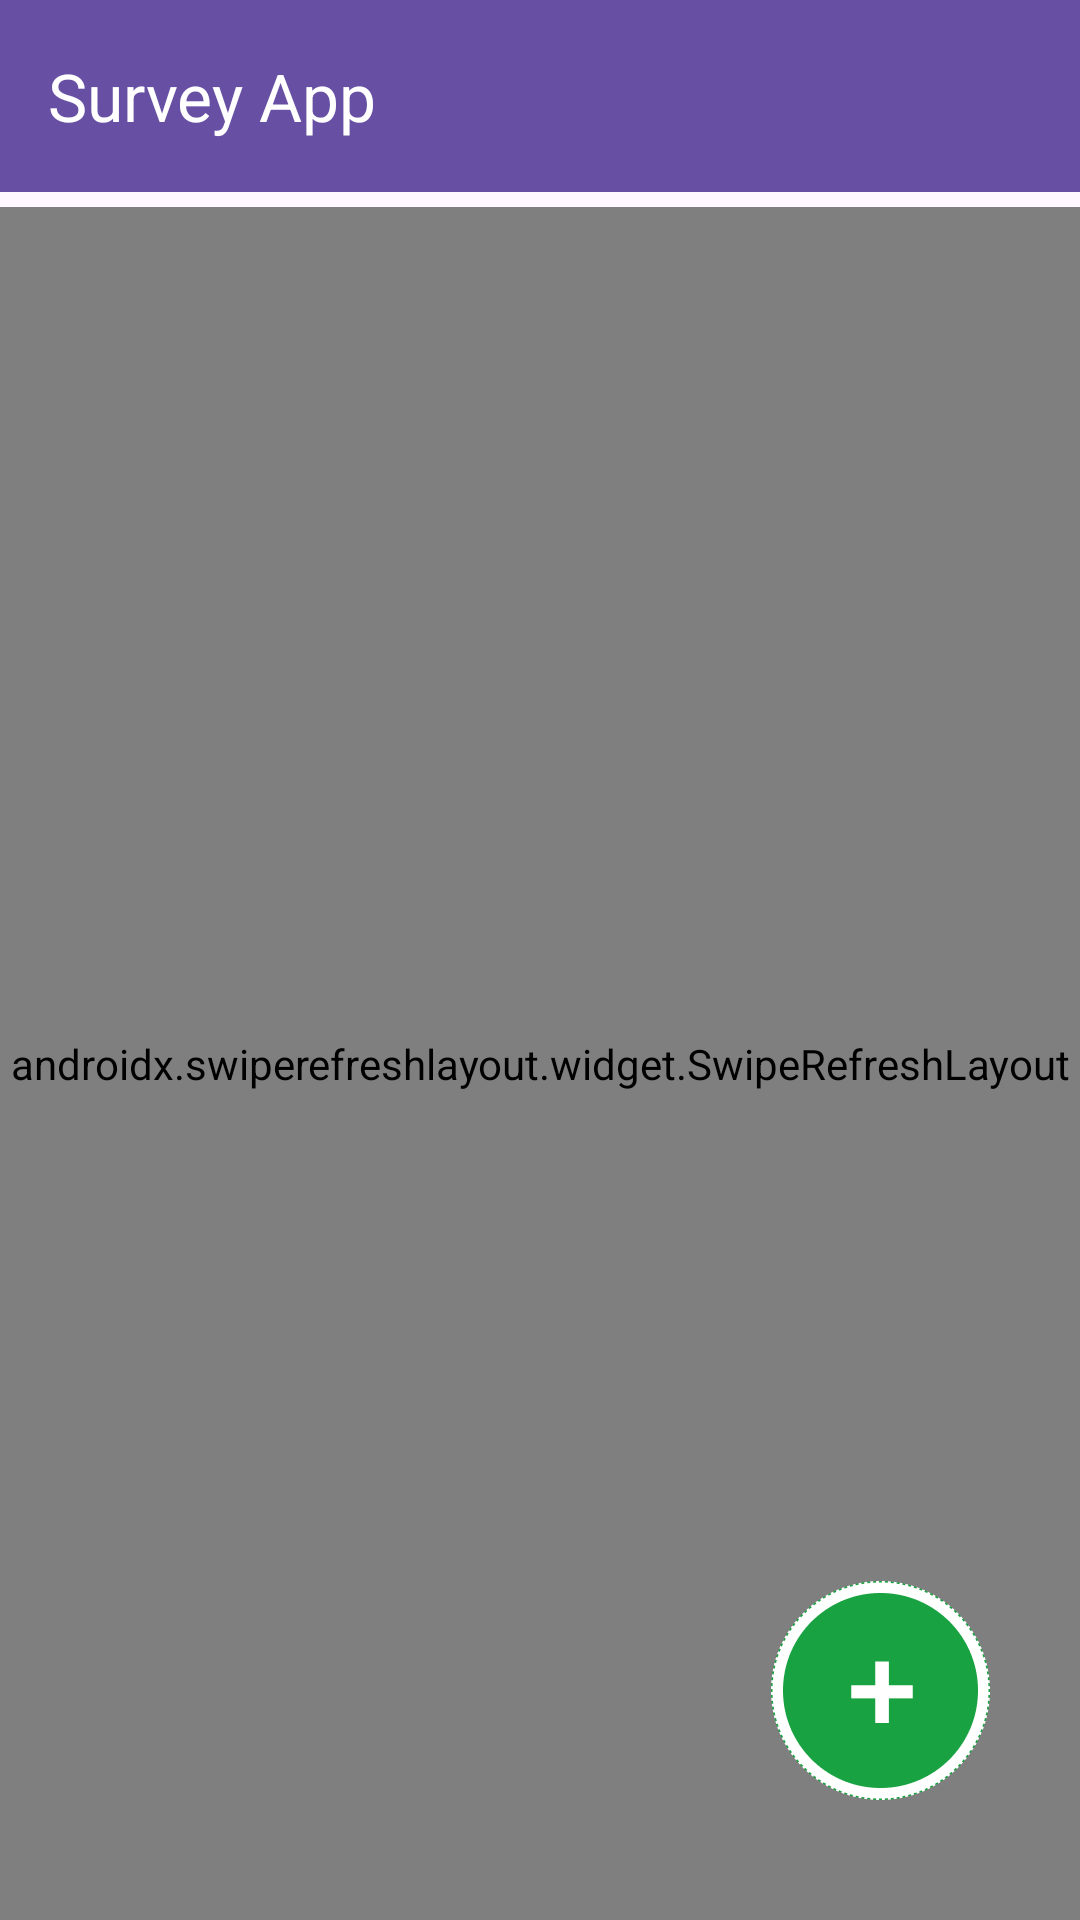

Where to tap for icons on this 1080px x 1920px app screen, as point (x, y):
addsurvey: point (880, 1690)
